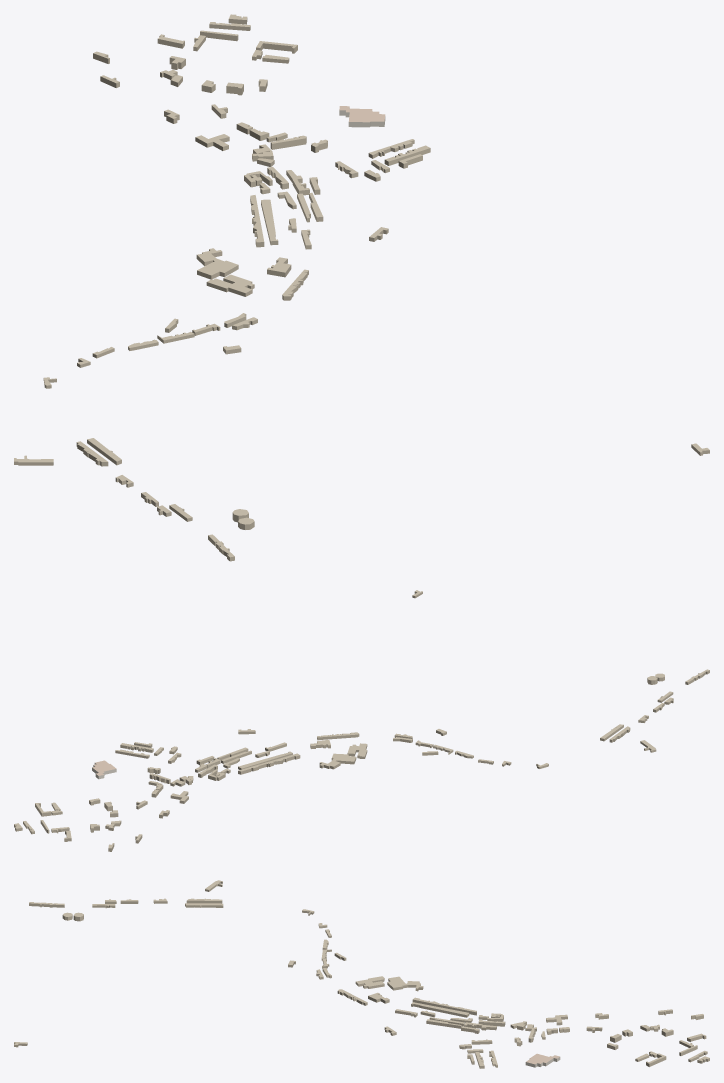
3 views of the same model, one above another, from view 1: azimuth 30°, elevation 25°; view 2: azimuth 150°, elevation 25°; view 3: azimuth 270°, elevation 25° (orthographic). The views are drawn at different scales.
Bounding box in the file's own units: 1299 × 42.43 × 1983.
